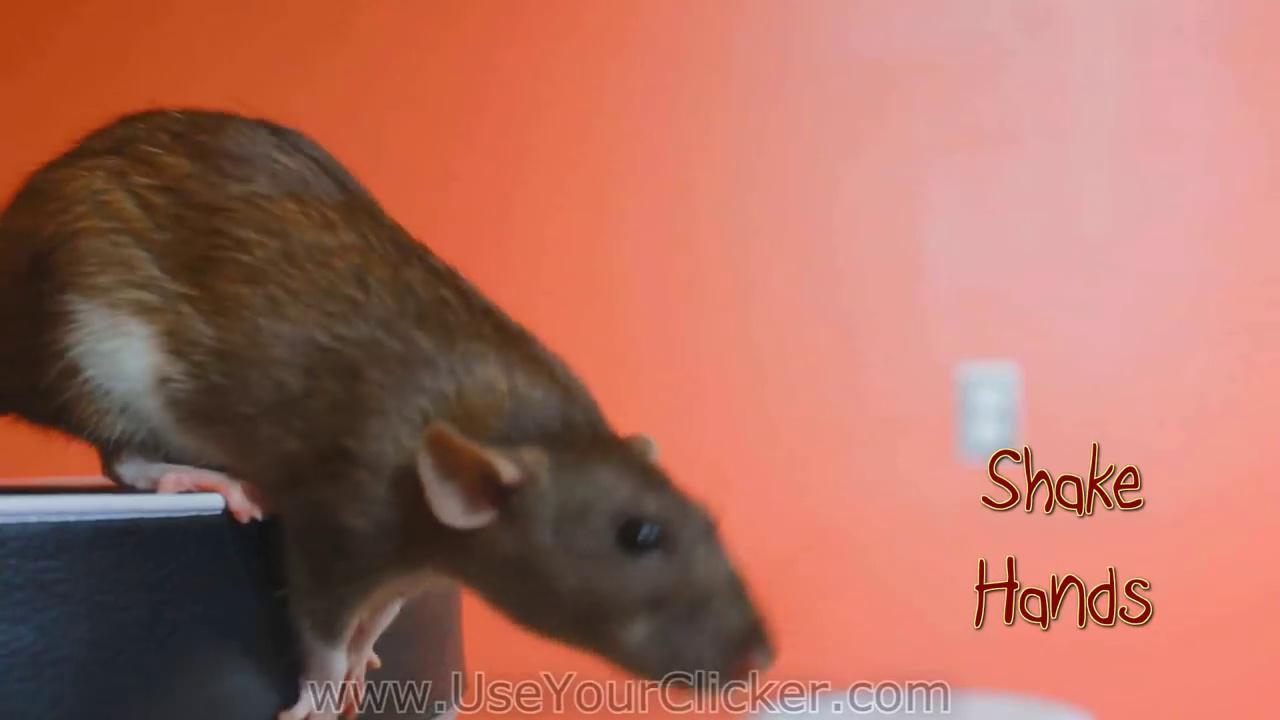rat: (0, 107, 778, 720)
